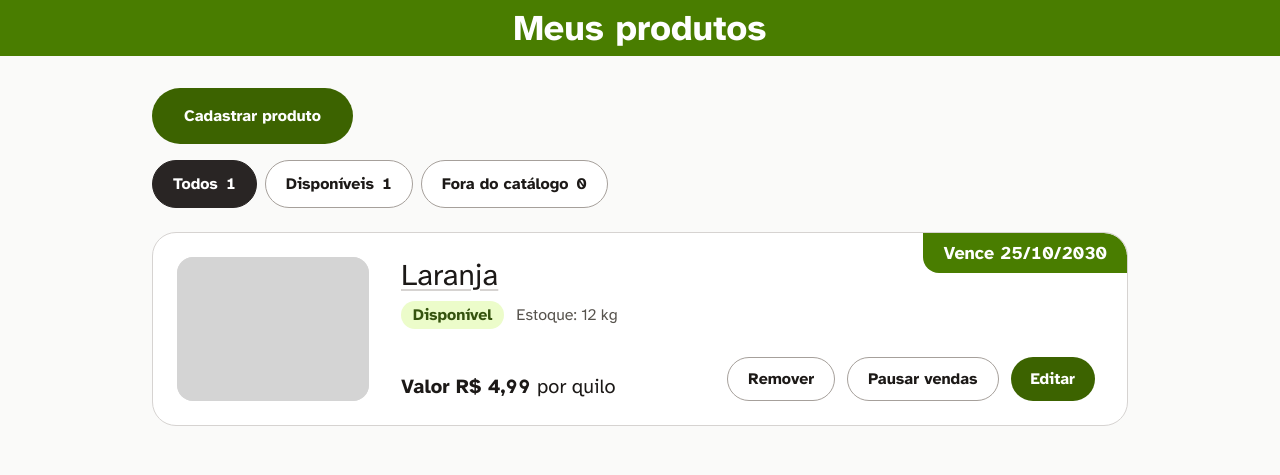
Test: MyProducts, pausing and the tabs › shows why the change was refused and keeps the product as it was
Click the button "Pausar vendas".
click(923, 379)  # box [847,357,999,401]
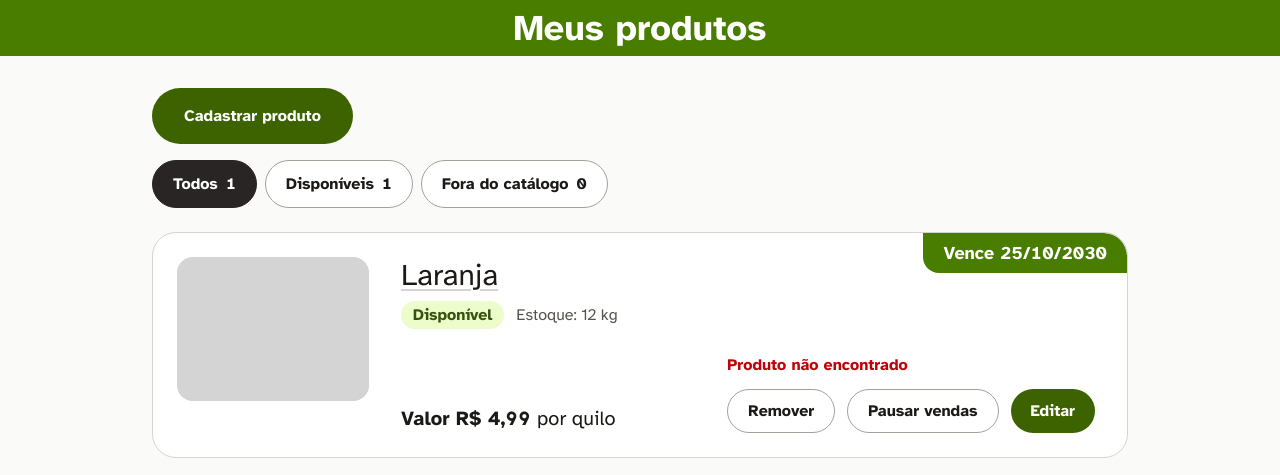
Expected: the text "Disponível" is shown, [401,301,504,329]
Result: the message reads "Produto não encontrado" at [727,355,908,375]
